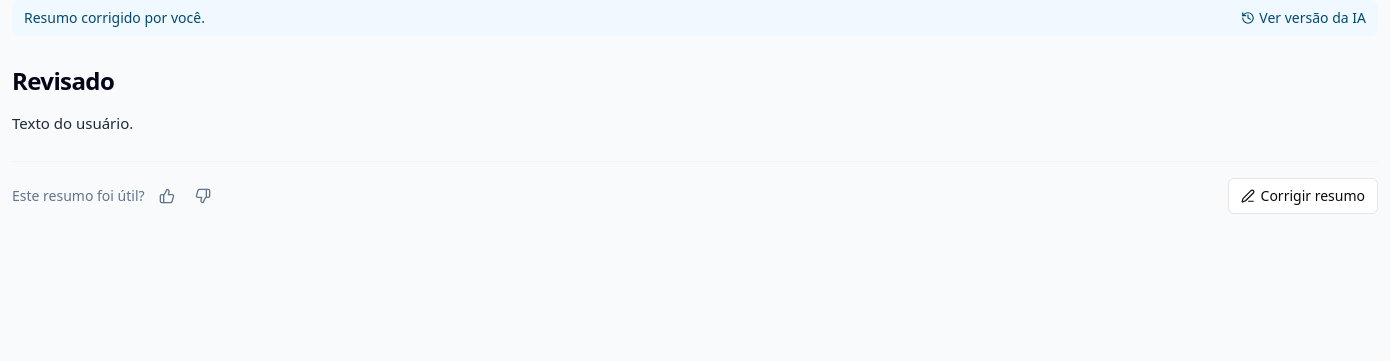
Scenario: SummaryPanel › compares a corrected summary with the AI version
Expected: the text "Resumo corrigido por você." is shown, x1=24 y1=8 x2=205 y2=28
What coordinates should you click on to do the following:
click the button "Ver versão da IA"
I would click on:
 (1304, 18)
Its box is x1=1241 y1=8 x2=1366 y2=28.
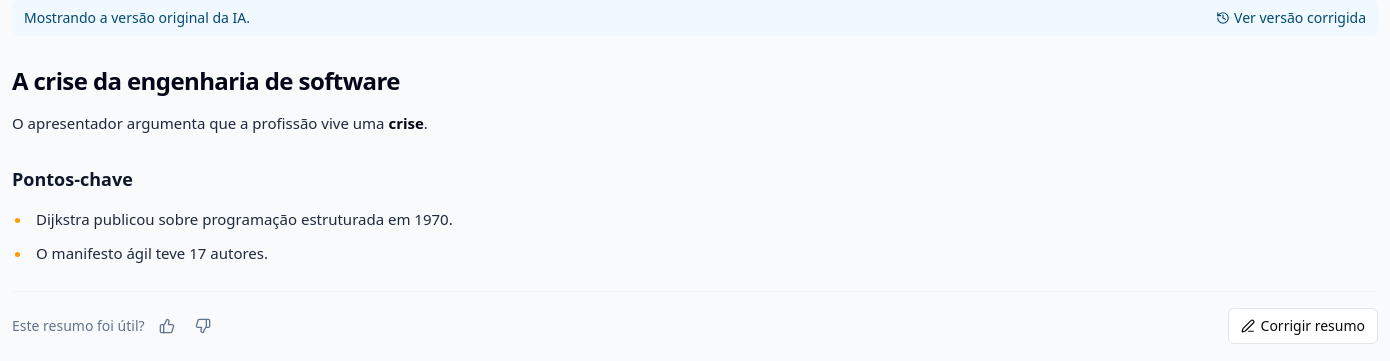
Expected: the heading "A crise da engenharia de software" is shown, x1=12 y1=64 x2=400 y2=97
